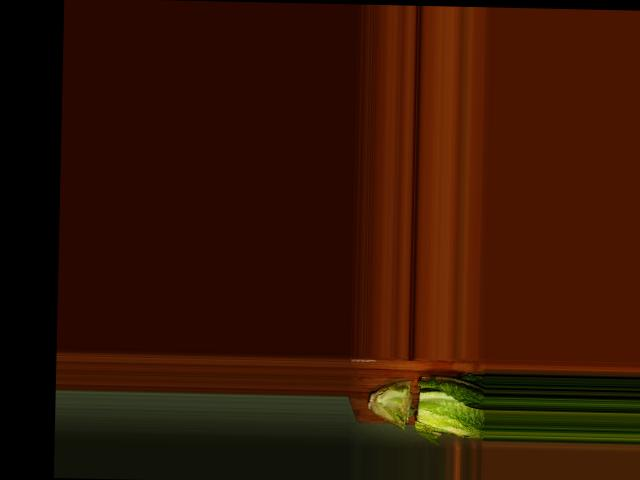lettuce: (368, 367, 483, 442)
